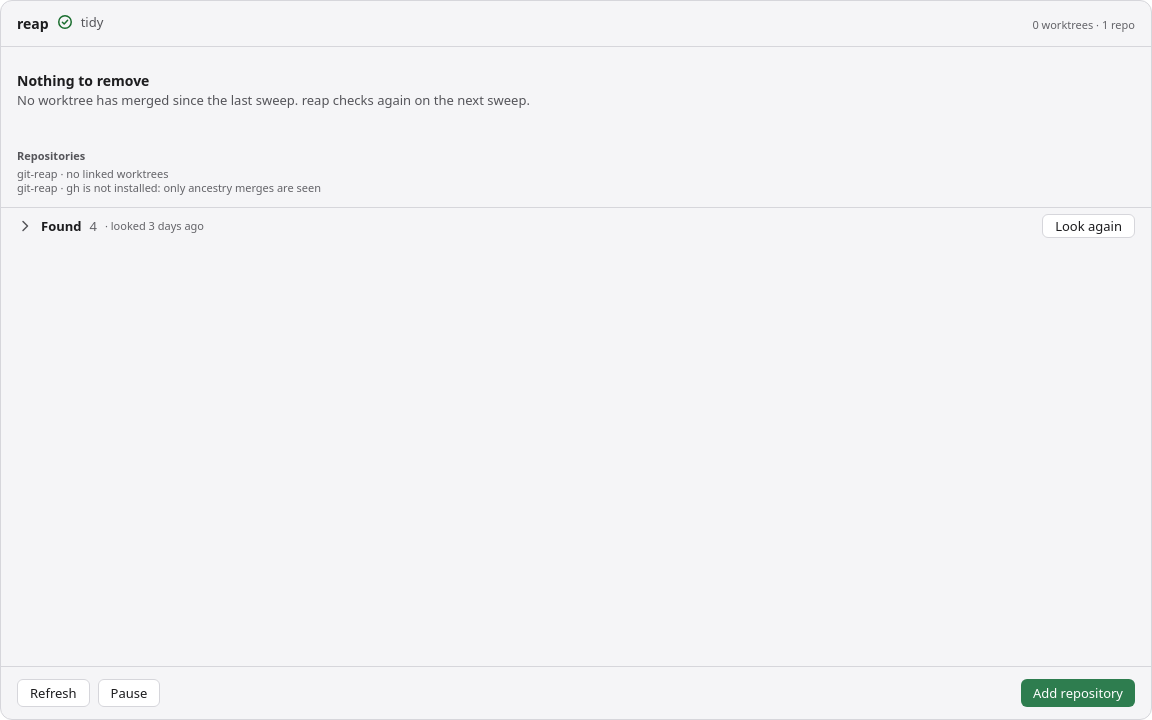
it: Popover with repos listed › collapses Found to one line while suggestions remain and nothing was done this session
Expected: the button "Look again" is shown, [1042,214,1135,238]
Click the button "Found 4 · looked 3 days ago": point(61, 226) [17,217,1034,235]
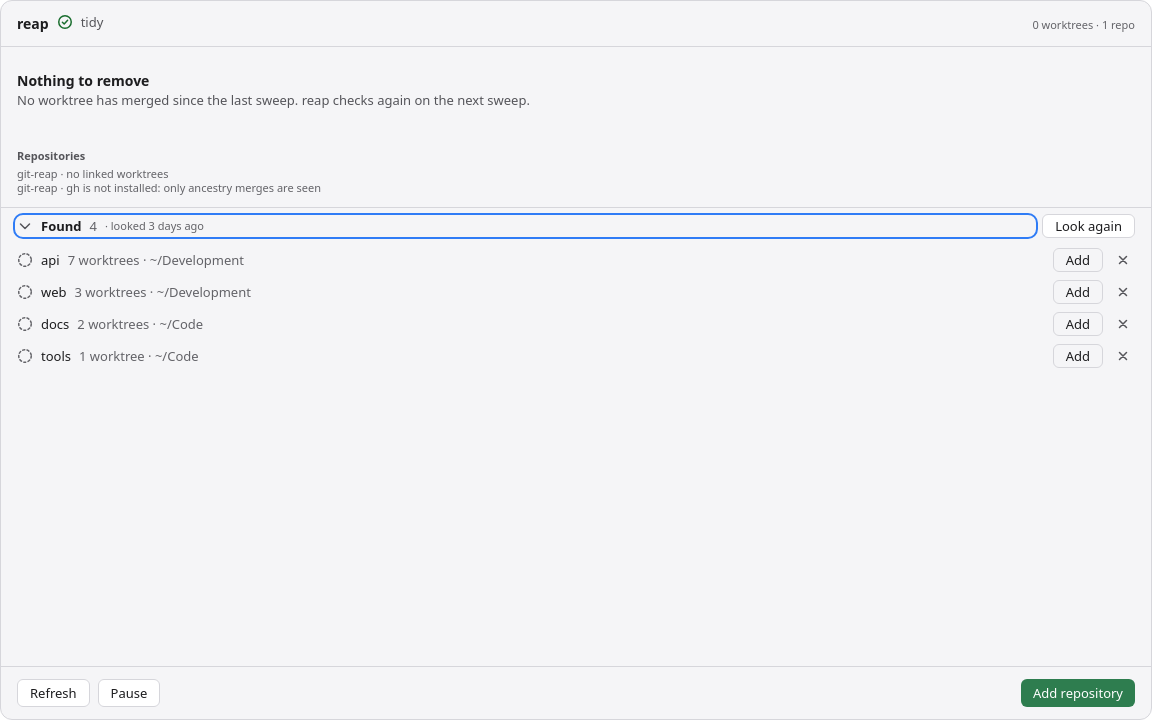
Expected: the button "Found 4 · looked 3 days ago" is expanded, [17,217,1034,235]
Expected: the button named "Skip api" is shown, [1111,248,1135,272]
